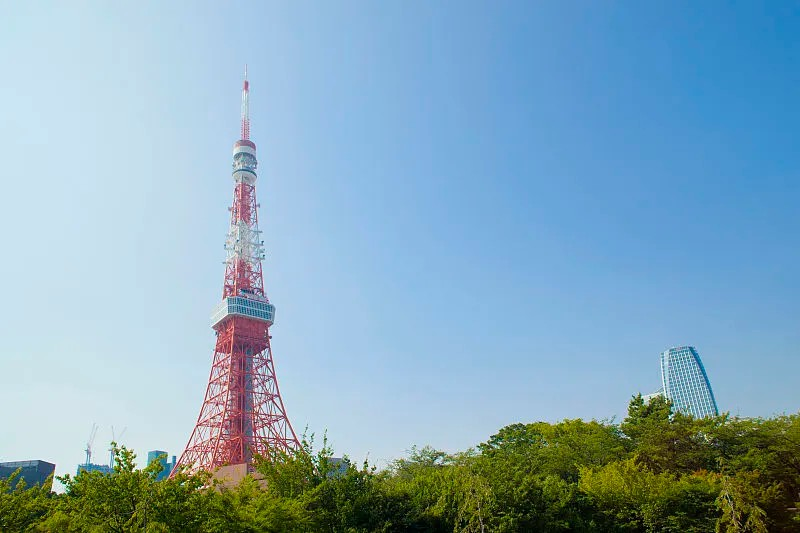Tokyo: (165, 59, 328, 488)
